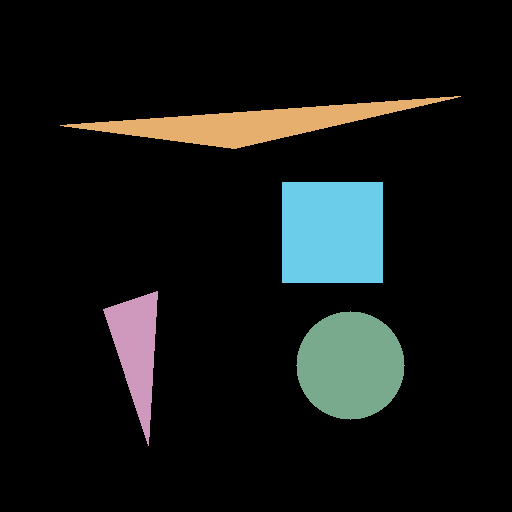circle: (296, 311, 404, 419)
square: (282, 182, 382, 282)
triangle: (60, 96, 460, 148), (103, 291, 157, 445)
